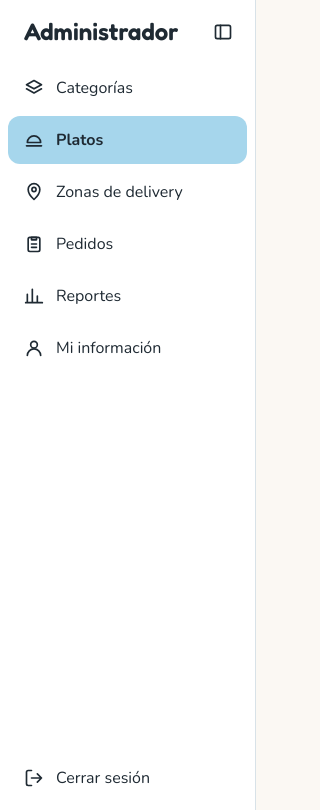
it: AdminNav › muestra el título y se pliega y expande con el botón
Expected: the text "Administrador" is shown, x1=24 y1=17 x2=178 y2=47
What coordinates should you click on to do the following:
click the button named "Contraer menú"
I would click on:
 (223, 32)
Its box is x1=199 y1=8 x2=247 y2=56.
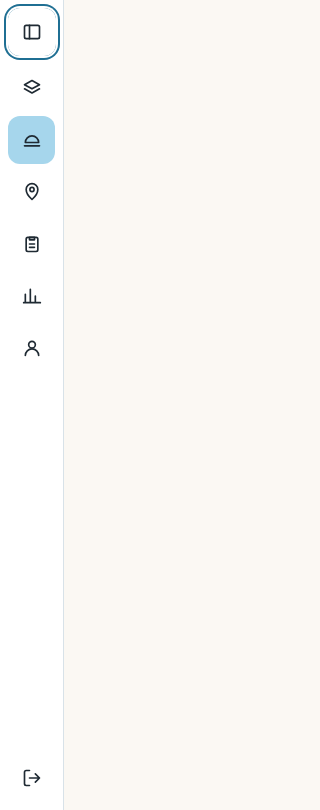
Expected: the link named "Platos" is shown, x1=8 y1=116 x2=55 y2=164
Expected: the text "Administrador" is gone
Expected: the button named "Expandir menú" is collapsed
What coordinates should you click on to do the following:
click the button named "Expandir menú"
I would click on:
 (32, 32)
Its box is x1=8 y1=8 x2=56 y2=56.
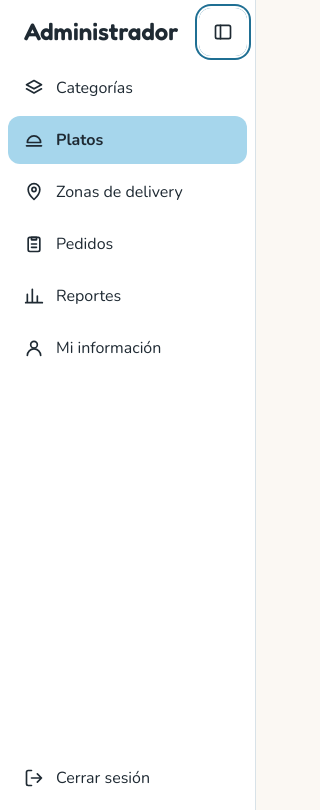
Expected: the text "Administrador" is shown, x1=24 y1=17 x2=178 y2=47
